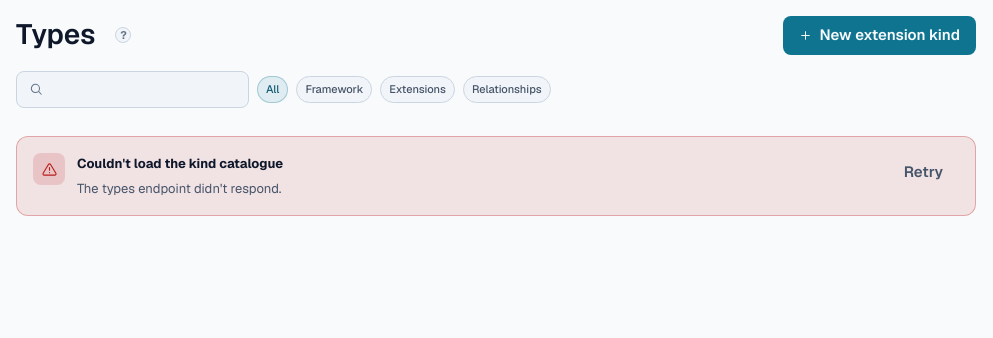
Scenario: CeTypesPage › shows an ErrorCard with retry when the catalogue fetch fails
Check: the text "Couldn't load the kind catalogue" is shown, box 77,155 -> 283,172
Step 1. Click the button "Retry" → (923, 172), box 888,153 -> 959,192
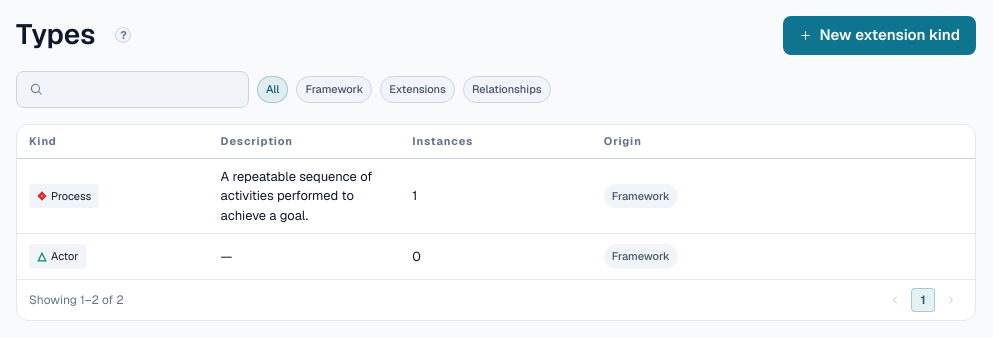
Check: the text "Process" is shown, box 29,184 -> 99,208
